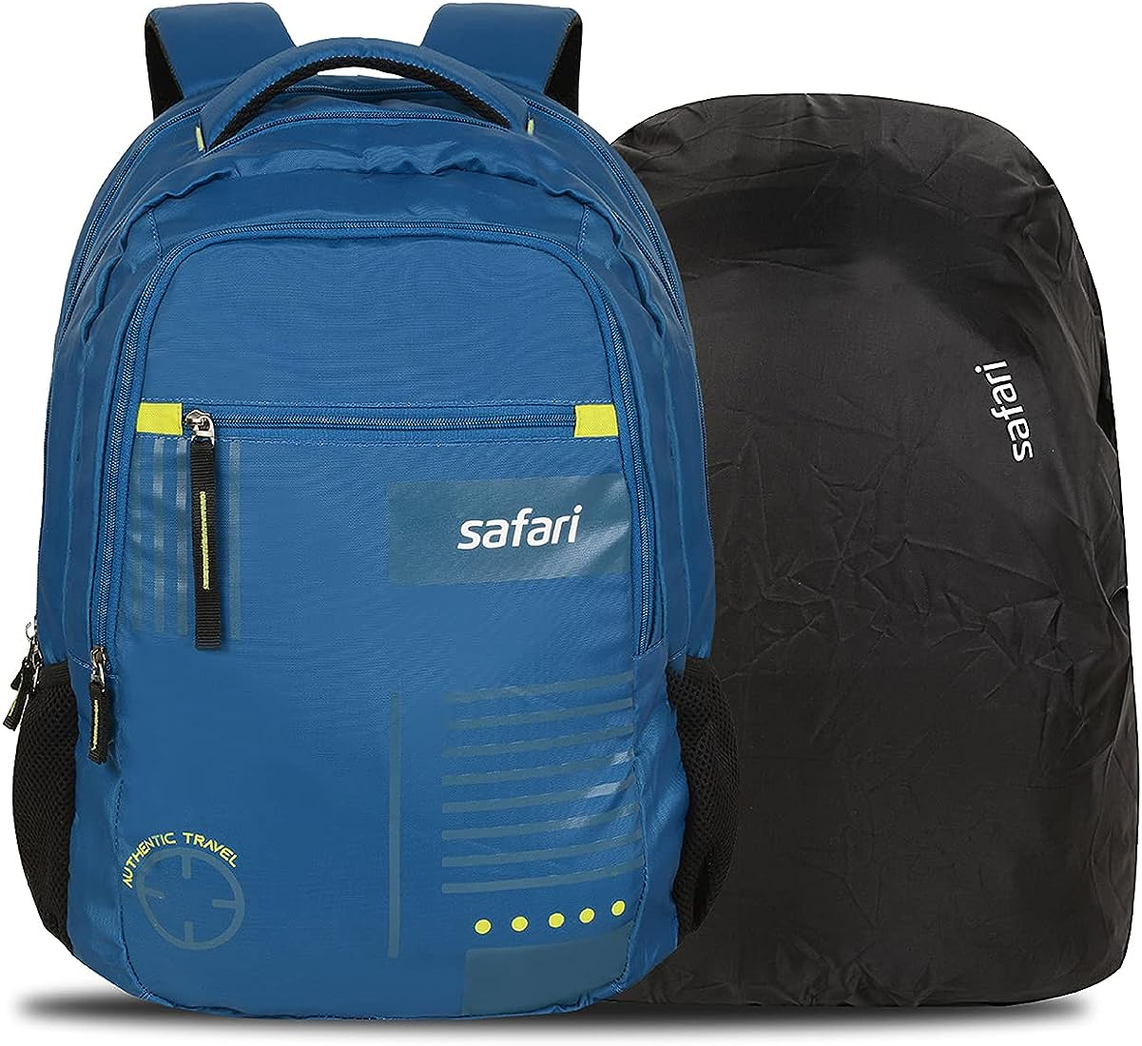backpack: (4, 1, 737, 1019)
